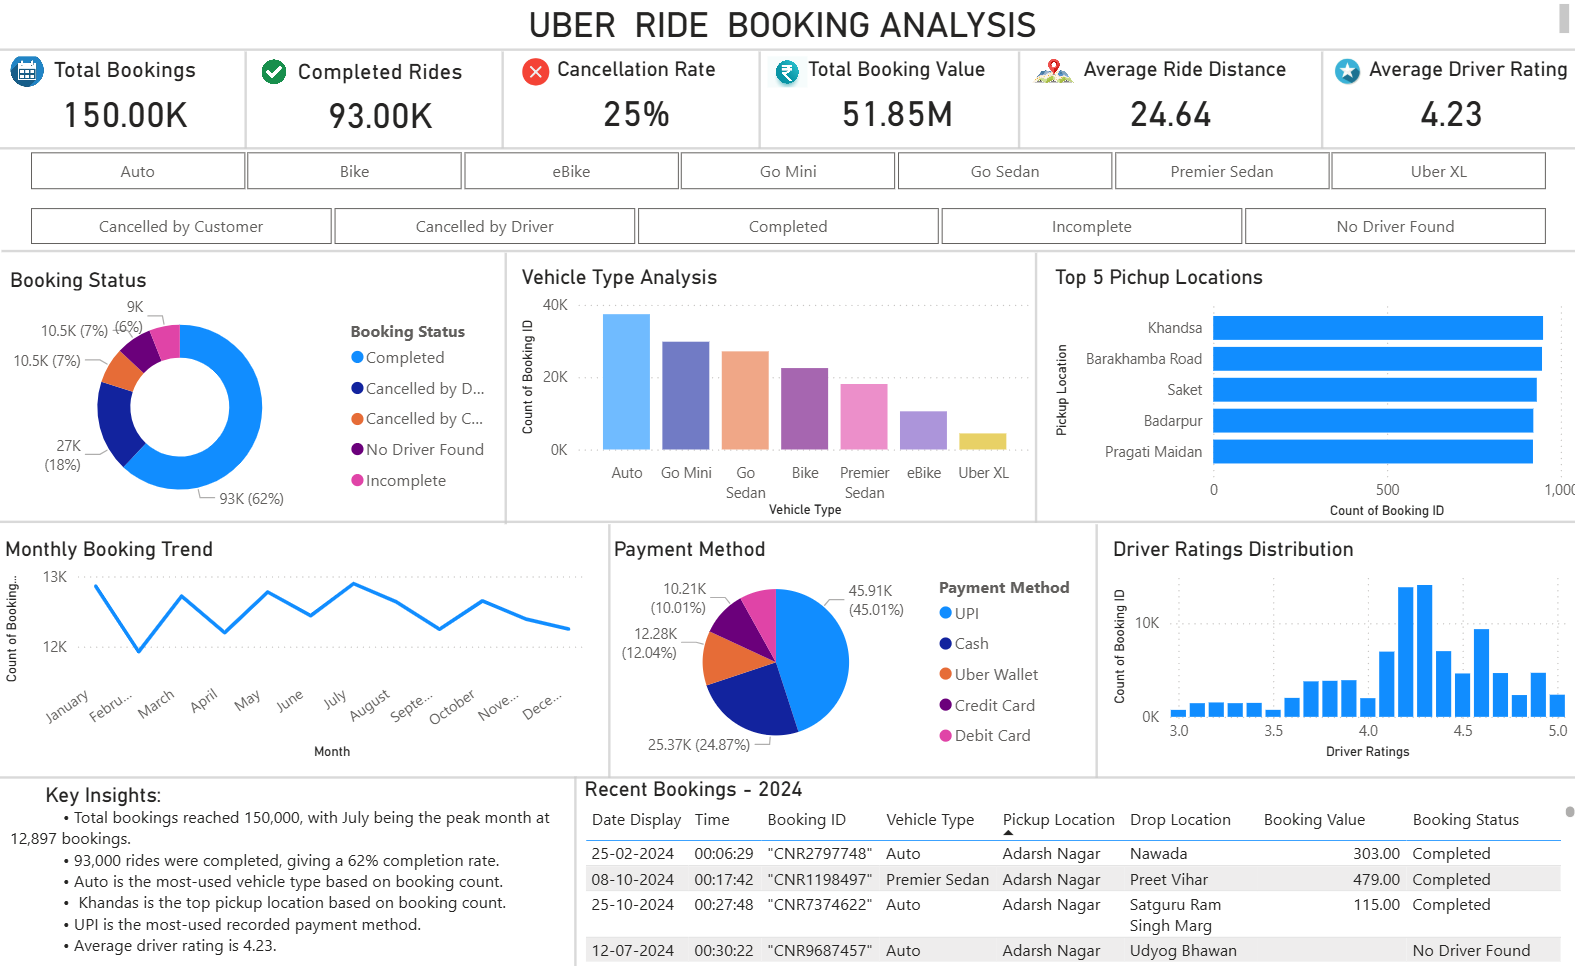

What the dashboard file says about the page in this screenshot:
{"tool":"powerbi","page":{"name":"Page 1","canvas":[1307,800],"ordinal":0},"visuals":[{"type":"card","title":"Total Bookings","fields":{"Values":["CountNonNull(uber_analysis bookings.Booking ID)"]},"box":[4.1,48.9,199.7,72],"z":0},{"type":"card","title":"Completed Rides","fields":{"Values":["CountNonNull(uber_analysis bookings.Booking Status)"]},"box":[214.7,50.3,201.1,70.7],"z":1000},{"type":"card","title":"Cancellation Rate","fields":{"Values":["uber_analysis bookings.Cancellation Rate"]},"box":[425.3,48.9,199.7,72],"z":2000},{"type":"card","title":"Total Booking Value","fields":{"Values":["select","Sum(uber_analysis bookings.Booking Value)"]},"box":[639.9,48.9,201.1,72],"z":3000},{"type":"card","title":"Average Ride Distance","fields":{"Values":["Avg(uber_analysis bookings.Ride Distance)"]},"box":[865.5,48.9,201.1,72],"z":4000},{"type":"card","title":"Average Driver Rating","fields":{"Values":["Avg(uber_analysis bookings.Driver Ratings)"]},"box":[1097.8,48.9,201.1,72],"z":5000},{"type":"image","box":[6,48,34,26],"z":6000},{"type":"image","box":[430,47,25.7,25.7],"z":7000},{"type":"image","box":[214,48,25,25.7],"z":8000},{"type":"image","box":[634,47,33,25.7],"z":9000},{"type":"image","box":[849.9,47,40.4,25.7],"z":10000},{"type":"image","box":[1092,47,40.8,25],"z":11000},{"type":"donutChart","title":"Booking Status","fields":{"Category":["uber_analysis bookings.Booking Status"],"Y":["CountNonNull(uber_analysis bookings.Booking ID)"]},"box":[4.1,221.5,411.7,212],"z":12000},{"type":"clusteredColumnChart","title":"Vehicle Type Analysis","fields":{"Category":["uber_analysis bookings.Vehicle Type"],"Y":["CountNonNull(uber_analysis bookings.Booking ID)"]},"box":[425,220.1,430.7,213.3],"z":13000},{"type":"clusteredBarChart","title":"Top 5 Pichup Locations","fields":{"Y":["CountNonNull(uber_analysis bookings.Booking ID)"],"Category":["uber_analysis bookings.Pickup Location"]},"box":[865,220,442.5,213.8],"z":14000},{"type":"lineChart","title":"Monthly Booking Trend","fields":{"Y":["CountNonNull(uber_analysis bookings.Booking ID)"],"Category":["uber_analysis bookings.Date.Variation.Date Hierarchy.Month"]},"box":[0,444.3,489.1,188.9],"z":15000},{"type":"pieChart","title":"Payment Method","fields":{"Category":["uber_analysis bookings.Payment Method"],"Y":["CountNonNull(uber_analysis bookings.Booking ID)"]},"box":[502.7,444.3,402.2,188.9],"z":16000},{"type":"clusteredColumnChart","title":"Driver Ratings Distribution","fields":{"Category":["uber_analysis bookings.Driver Ratings"],"Y":["CountNonNull(uber_analysis bookings.Booking ID)"]},"box":[914.4,444.3,385.9,188.9],"z":17000},{"type":"textbox","box":[4.1,642.7,460.6,157.6],"z":18000},{"type":"tableEx","title":"Recent Bookings - 2024","fields":{"Values":["uber_analysis bookings.Date Display","uber_analysis bookings.Time","uber_analysis bookings.Booking ID","uber_analysis bookings.Vehicle Type","uber_analysis bookings.Pickup Location","uber_analysis bookings.Drop Location","uber_analysis bookings.Booking Value","uber_analysis bookings.Booking Status"]},"box":[478.8,642.5,827.5,157.5],"z":19000},{"type":"slicer","fields":{"Values":["uber_analysis bookings.Vehicle Type"]},"box":[0,120.9,1300.3,44.8],"z":20000},{"type":"slicer","fields":{"Values":["uber_analysis bookings.Booking Status"]},"box":[0,165.8,1300.3,43.5],"z":21000},{"type":"textbox","box":[0,0,1300.3,38],"z":22000},{"type":"shape","box":[0,0,1307.5,85],"z":23000},{"type":"shape","box":[0,71.2,1307.5,103.8],"z":24000},{"type":"shape","box":[1.2,178.8,1306.2,61.2],"z":25000},{"type":"shape","box":[0,392.5,1307.5,80],"z":26000},{"type":"shape","box":[0,615,1306.2,53.8],"z":27000},{"type":"shape","box":[239.1,209.2,356,224.2],"z":28000},{"type":"shape","box":[706.5,210.6,298.9,222.8],"z":29000},{"type":"shape","box":[353.3,433.4,298.9,209.2],"z":30000},{"type":"shape","box":[755.4,433.4,298.9,209.2],"z":31000},{"type":"shape","box":[326.1,642.7,298.9,157.6],"z":32000},{"type":"shape","box":[54.3,43.5,298.9,80.2],"z":33000},{"type":"shape","box":[266.3,43.5,298.9,80.2],"z":34000},{"type":"shape","box":[478.3,43.5,298.9,80.2],"z":35000},{"type":"shape","box":[691.6,43.5,298.9,80.2],"z":36000},{"type":"shape","box":[942.9,43.5,298.9,80.2],"z":37000}]}

Visuals, with their boxes in screenshot pixels (x1, y1, x2, y2), scaled from the page's 1307x800 canvas onto the 1575x966 screenshot:
"Total Bookings" card: <bbox>5, 59, 246, 146</bbox>
"Completed Rides" card: <bbox>259, 61, 501, 146</bbox>
"Cancellation Rate" card: <bbox>513, 59, 753, 146</bbox>
"Total Booking Value" card: <bbox>771, 59, 1013, 146</bbox>
"Average Ride Distance" card: <bbox>1043, 59, 1285, 146</bbox>
"Average Driver Rating" card: <bbox>1323, 59, 1565, 146</bbox>
image: <bbox>7, 58, 48, 89</bbox>
image: <bbox>518, 57, 549, 88</bbox>
image: <bbox>258, 58, 288, 89</bbox>
image: <bbox>764, 57, 804, 88</bbox>
image: <bbox>1024, 57, 1073, 88</bbox>
image: <bbox>1316, 57, 1365, 87</bbox>
"Booking Status" donutChart: <bbox>5, 267, 501, 523</bbox>
"Vehicle Type Analysis" clusteredColumnChart: <bbox>512, 266, 1031, 523</bbox>
"Top 5 Pichup Locations" clusteredBarChart: <bbox>1042, 266, 1574, 524</bbox>
"Monthly Booking Trend" lineChart: <bbox>0, 536, 589, 765</bbox>
"Payment Method" pieChart: <bbox>606, 536, 1090, 765</bbox>
"Driver Ratings Distribution" clusteredColumnChart: <bbox>1102, 536, 1567, 765</bbox>
textbox: <bbox>5, 776, 560, 965</bbox>
"Recent Bookings - 2024" tableEx: <bbox>577, 776, 1574, 965</bbox>
slicer - uber_analysis bookings.Vehicle Type: <bbox>0, 146, 1567, 200</bbox>
slicer - uber_analysis bookings.Booking Status: <bbox>0, 200, 1567, 253</bbox>
textbox: <bbox>0, 0, 1567, 46</bbox>
shape: <bbox>0, 0, 1574, 103</bbox>
shape: <bbox>0, 86, 1574, 211</bbox>
shape: <bbox>1, 216, 1574, 290</bbox>
shape: <bbox>0, 474, 1574, 571</bbox>
shape: <bbox>0, 743, 1574, 808</bbox>
shape: <bbox>288, 253, 717, 523</bbox>
shape: <bbox>851, 254, 1212, 523</bbox>
shape: <bbox>426, 523, 786, 776</bbox>
shape: <bbox>910, 523, 1270, 776</bbox>
shape: <bbox>393, 776, 753, 965</bbox>
shape: <bbox>65, 53, 426, 149</bbox>
shape: <bbox>321, 53, 681, 149</bbox>
shape: <bbox>576, 53, 937, 149</bbox>
shape: <bbox>833, 53, 1194, 149</bbox>
shape: <bbox>1136, 53, 1496, 149</bbox>
